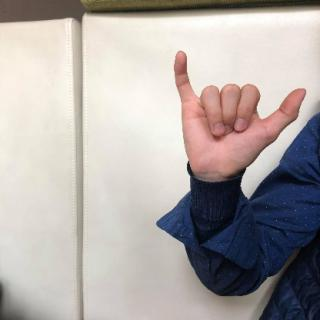YA: (172, 48, 310, 185)
